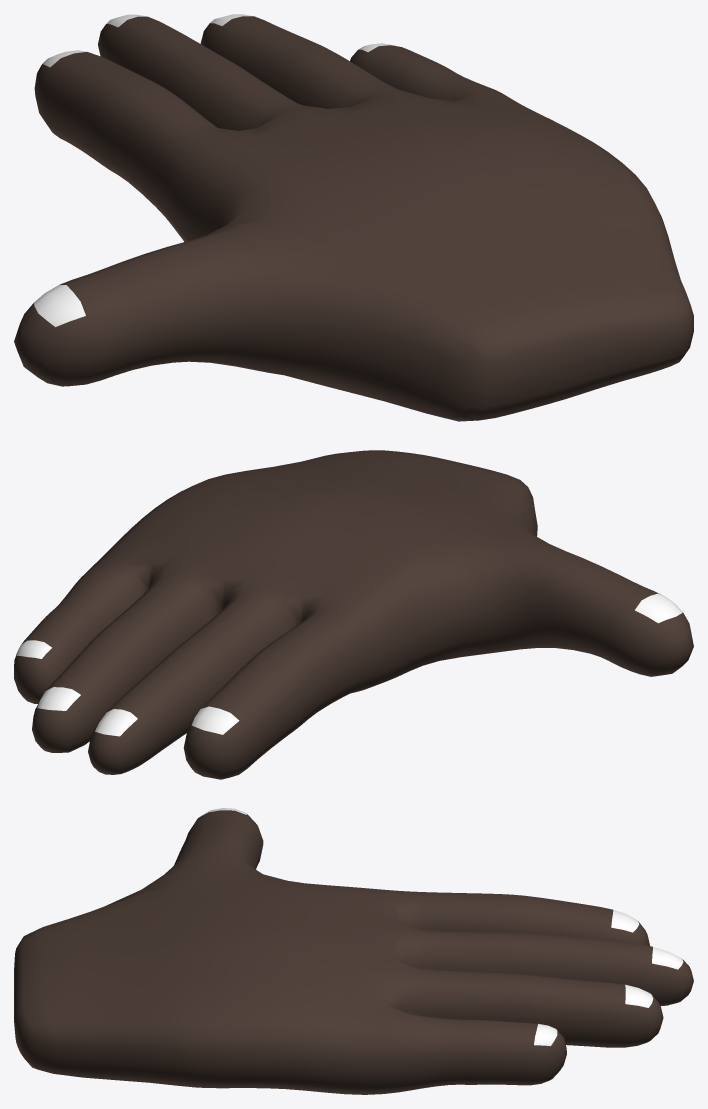
Rendered from lowPolyHand.glb.
3 renders of one model, top to bottom at view 1: azimuth 30°, elevation 25°; view 2: azimuth 150°, elevation 25°; view 3: azimuth 270°, elevation 25°, orthographic. The views are drawn at different scales.
Parts seen in each view (by area): view 1: Cube; view 2: Cube; view 3: Cube.
Part boxes in pixels (x1,y1,x2,y2): Cube: (14, 14, 693, 421); Cube: (14, 450, 693, 779); Cube: (14, 808, 693, 1094).
Size of the model in its own units: 0.6271 by 0.1441 by 0.7724.
